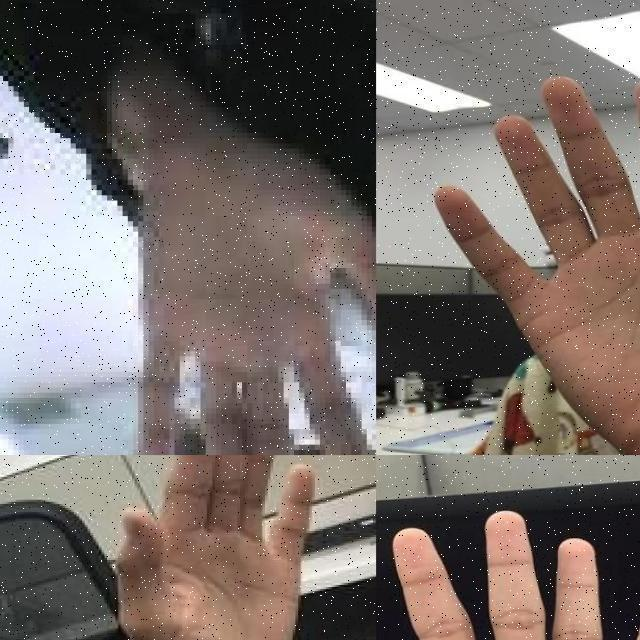hand: (427, 74, 640, 444), (133, 133, 376, 455), (112, 455, 320, 640), (376, 508, 640, 640)
